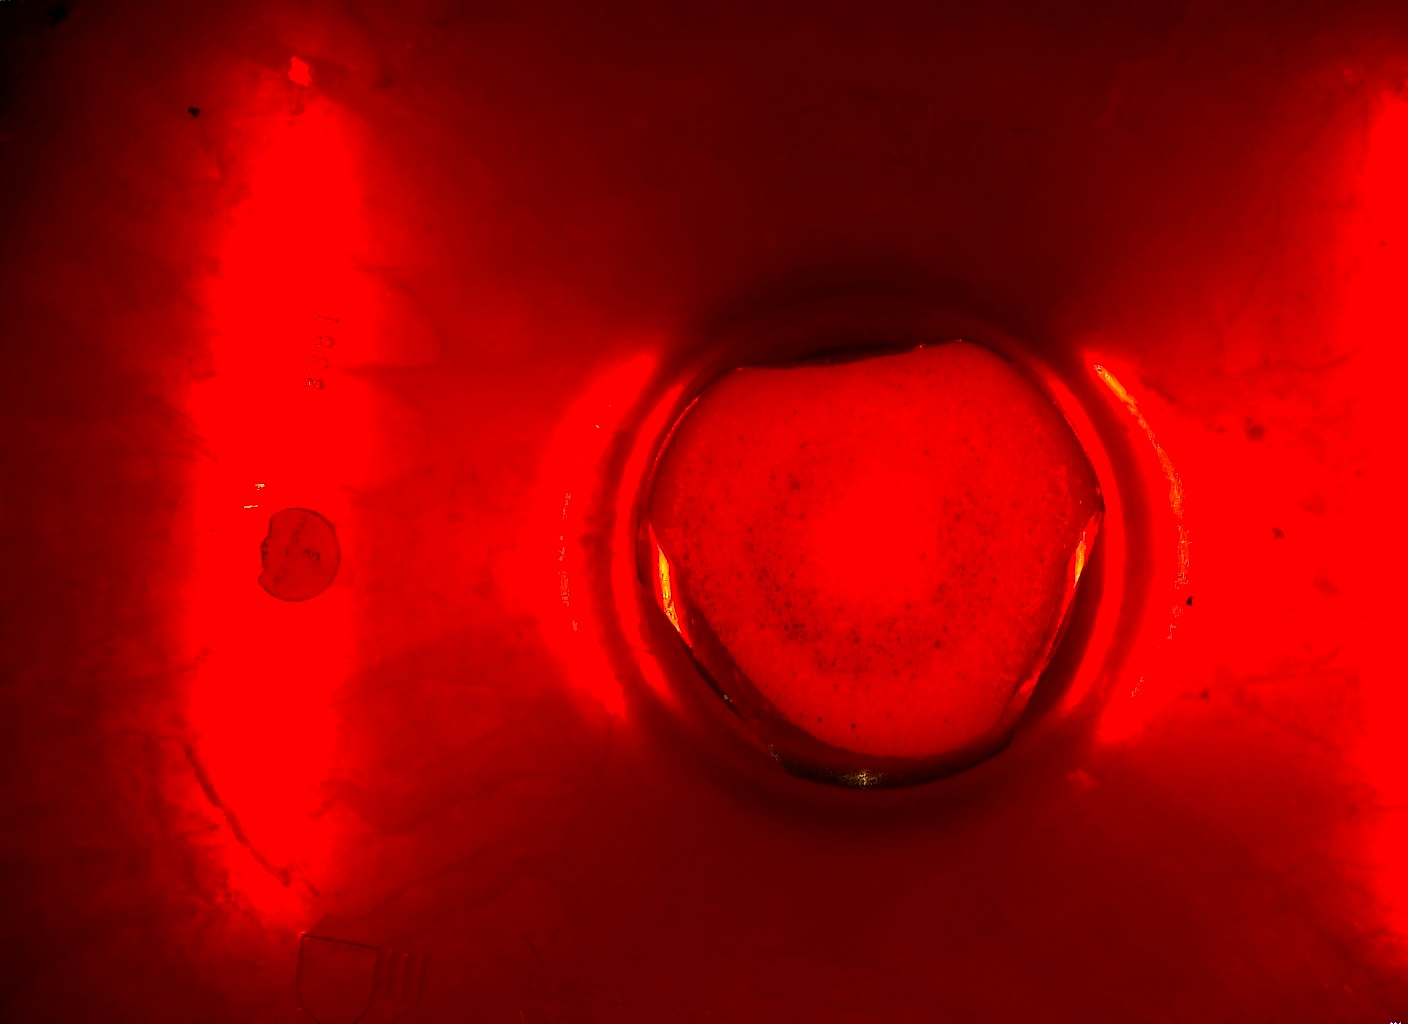shapka: (640, 342, 1117, 782)
